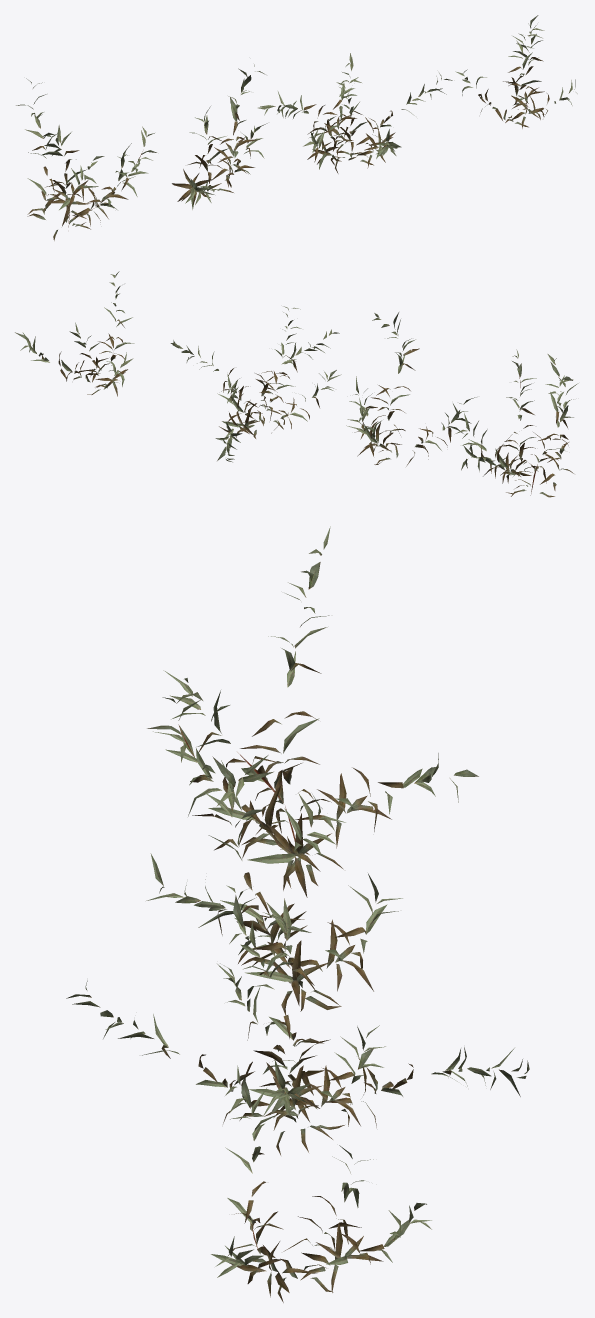
File: glb_shrub2.b0fa377f.glb
3 renders of one model, top to bottom at view 1: azimuth 30°, elevation 25°; view 2: azimuth 150°, elevation 25°; view 3: azimuth 270°, elevation 25°, orthographic. The views are drawn at different scales.
Parts seen in each view (by area): view 1: shrub_02_a; view 2: shrub_02_a; view 3: shrub_02_a.
Boxes of the visible parts, x1,y1,x2,y2 form: shrub_02_a: [16, 15, 577, 240]; shrub_02_a: [15, 271, 578, 497]; shrub_02_a: [66, 526, 529, 1302].
Size of the model in its own units: 6.05 by 1.7 by 2.28.
Materials: 1 (1 with a texture image).
